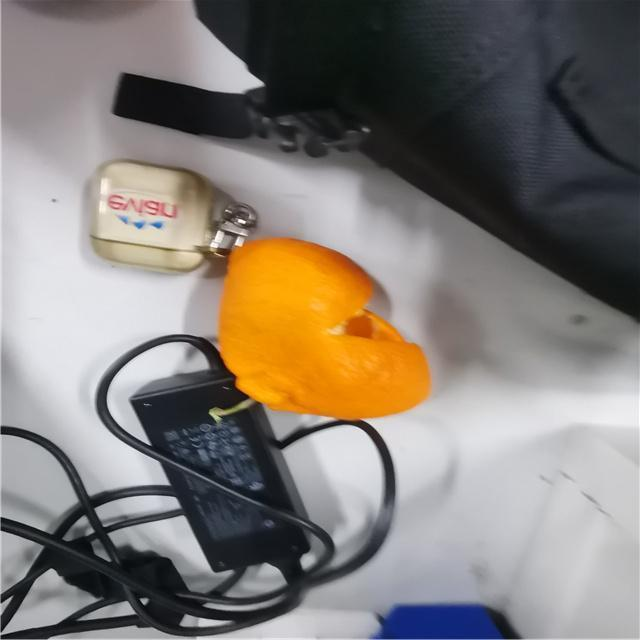orange peel: (222, 239, 434, 421)
